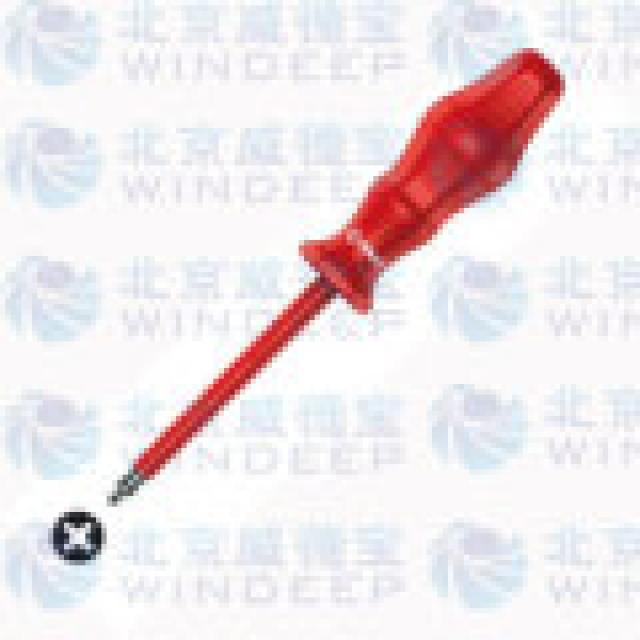screwdriver: (92, 42, 569, 516)
